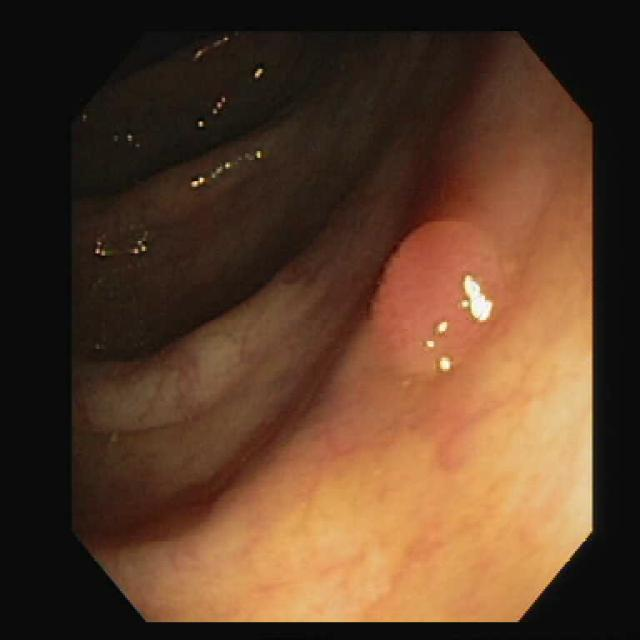tumor: (372, 220, 493, 369)
